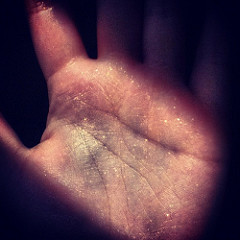palm: (50, 78, 217, 226)
